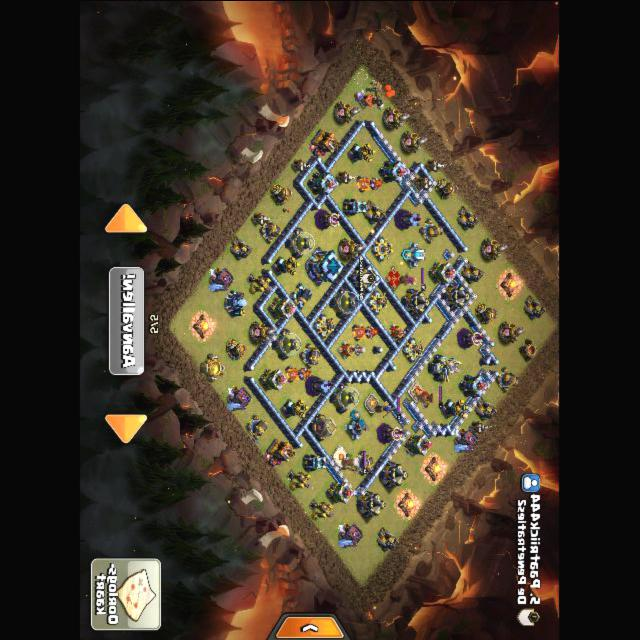AD: (281, 398, 310, 418), (272, 256, 301, 276), (348, 143, 377, 163), (441, 398, 470, 417)
AirSweeper: (338, 339, 363, 358), (388, 322, 407, 340)
BombTower: (303, 454, 330, 470), (344, 199, 370, 215)
Canon: (290, 282, 313, 309), (421, 218, 445, 243), (496, 366, 519, 392), (260, 217, 282, 243), (247, 414, 269, 440), (300, 343, 321, 368), (355, 450, 375, 475)
ClanCastle: (348, 263, 381, 292)
Eagle: (428, 354, 463, 382)
Inferno: (357, 176, 384, 192), (286, 366, 312, 382), (354, 324, 380, 340)
KingPad: (409, 380, 426, 402)
Mortar: (476, 302, 499, 324), (271, 183, 293, 205), (437, 177, 459, 199), (226, 338, 247, 360)
QueenPad: (386, 266, 403, 290)
RcPad: (366, 393, 380, 412)
Scattershot: (346, 409, 370, 438), (402, 242, 427, 266)
TH13: (306, 250, 346, 282)
WardenPad: (334, 445, 349, 466)
WizzTower: (396, 209, 422, 229), (306, 376, 333, 395), (458, 328, 484, 347), (378, 423, 404, 442), (315, 210, 341, 228)
Xbow: (314, 313, 338, 339), (403, 337, 425, 363), (372, 236, 394, 262), (368, 289, 390, 314)
